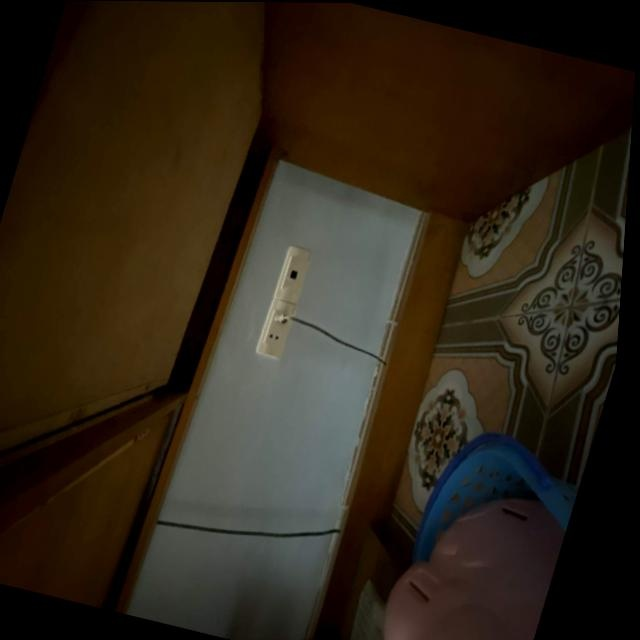outlet: (255, 297, 297, 359), (272, 244, 313, 302)
